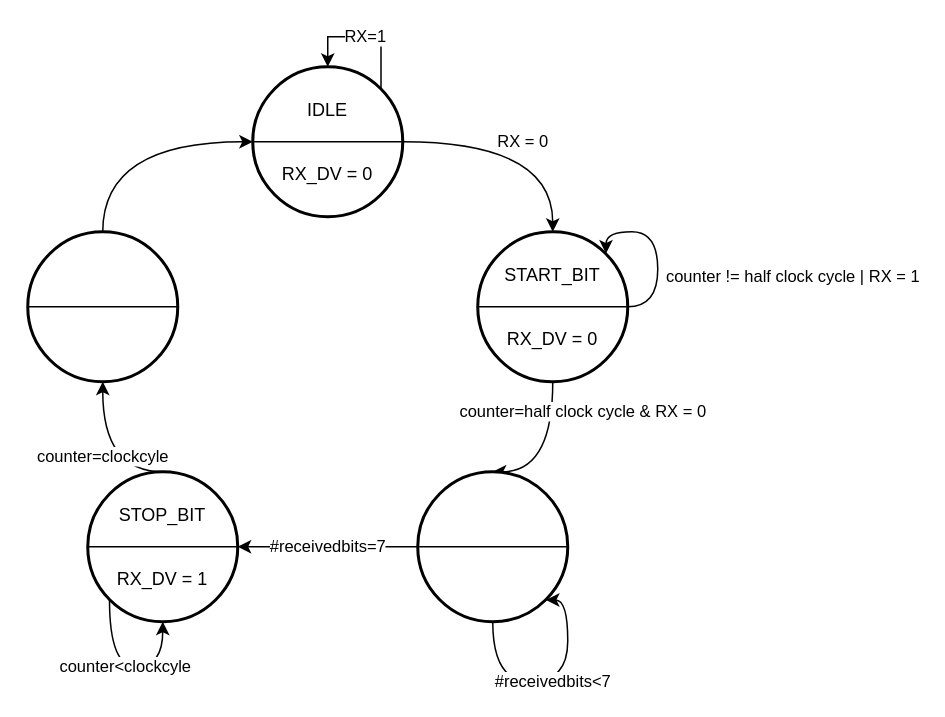
Image size: 945x717. Some labels were removed from this diagram. Here are the shapes that lost their labels. From the top down, the centre of each, then its label:
(102,306): CLEANUP RX_DV = 0
(492,546): DATA_BITS RX_DV = 0
